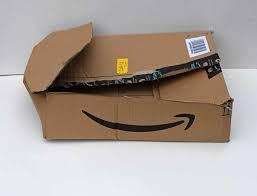box: (24, 22, 234, 143)
